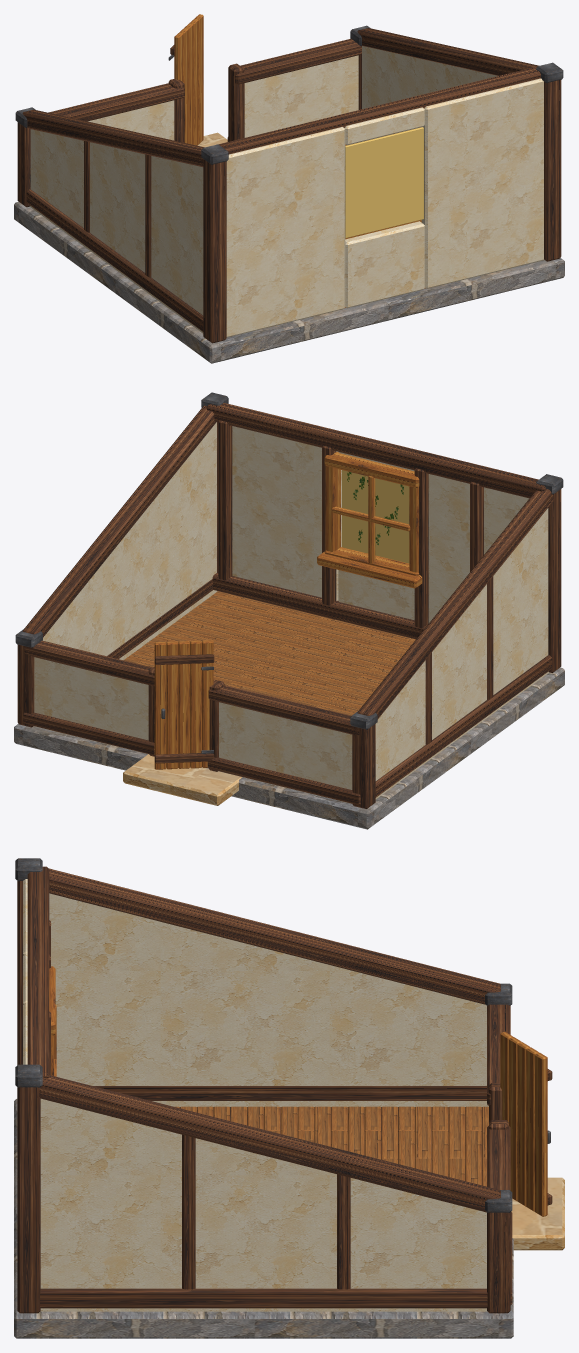
Rendered from InteriorCozy_Architecture.fbx.
The picture shows the model from 3 angles, top to bottom: view 1: azimuth 30°, elevation 25°; view 2: azimuth 150°, elevation 25°; view 3: azimuth 270°, elevation 25°; orthographic projection. The views are drawn at different scales.
Parts seen in each view (by area): view 1: InteriorCozy_Architecture; view 2: InteriorCozy_Architecture; view 3: InteriorCozy_Architecture.
Boxes of the visible parts, box(x1,y1,x2,y2) form: InteriorCozy_Architecture: box(14, 14, 564, 363); InteriorCozy_Architecture: box(14, 392, 564, 829); InteriorCozy_Architecture: box(14, 858, 564, 1338).
Size of the model in its own units: 5.52 by 3.1 by 5.87.
